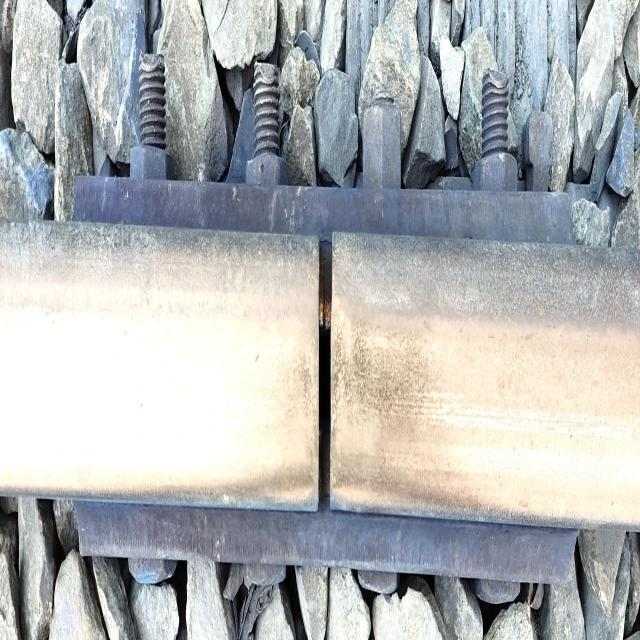Good Joint: (87, 33, 588, 611)
